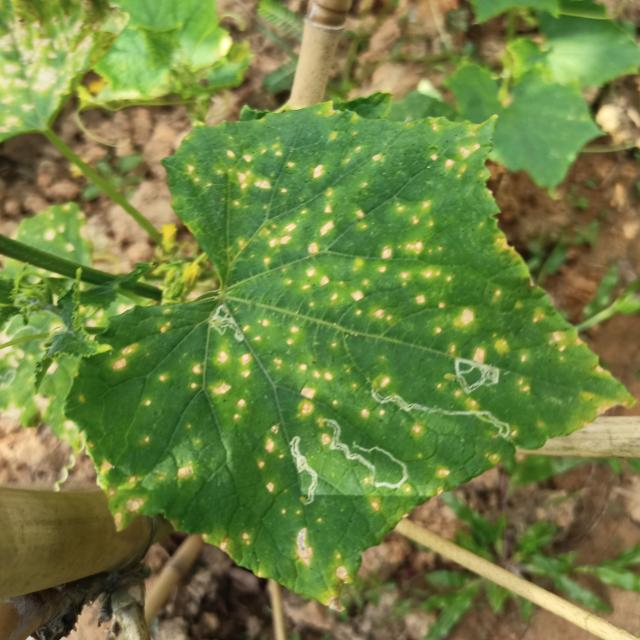disease_cucumber: (178, 122, 587, 365), (143, 349, 255, 424), (94, 454, 198, 533), (280, 509, 354, 586), (270, 355, 328, 417), (258, 422, 282, 498), (216, 530, 253, 558), (437, 384, 478, 408), (111, 342, 136, 373), (361, 404, 388, 422)
